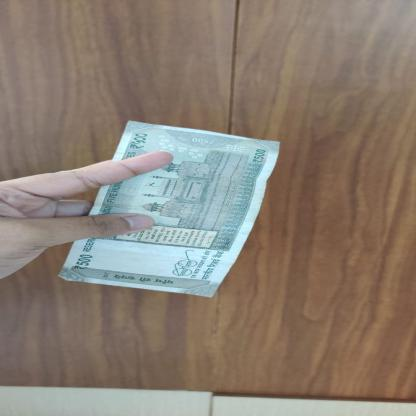New500Back: (52, 120, 281, 298)
